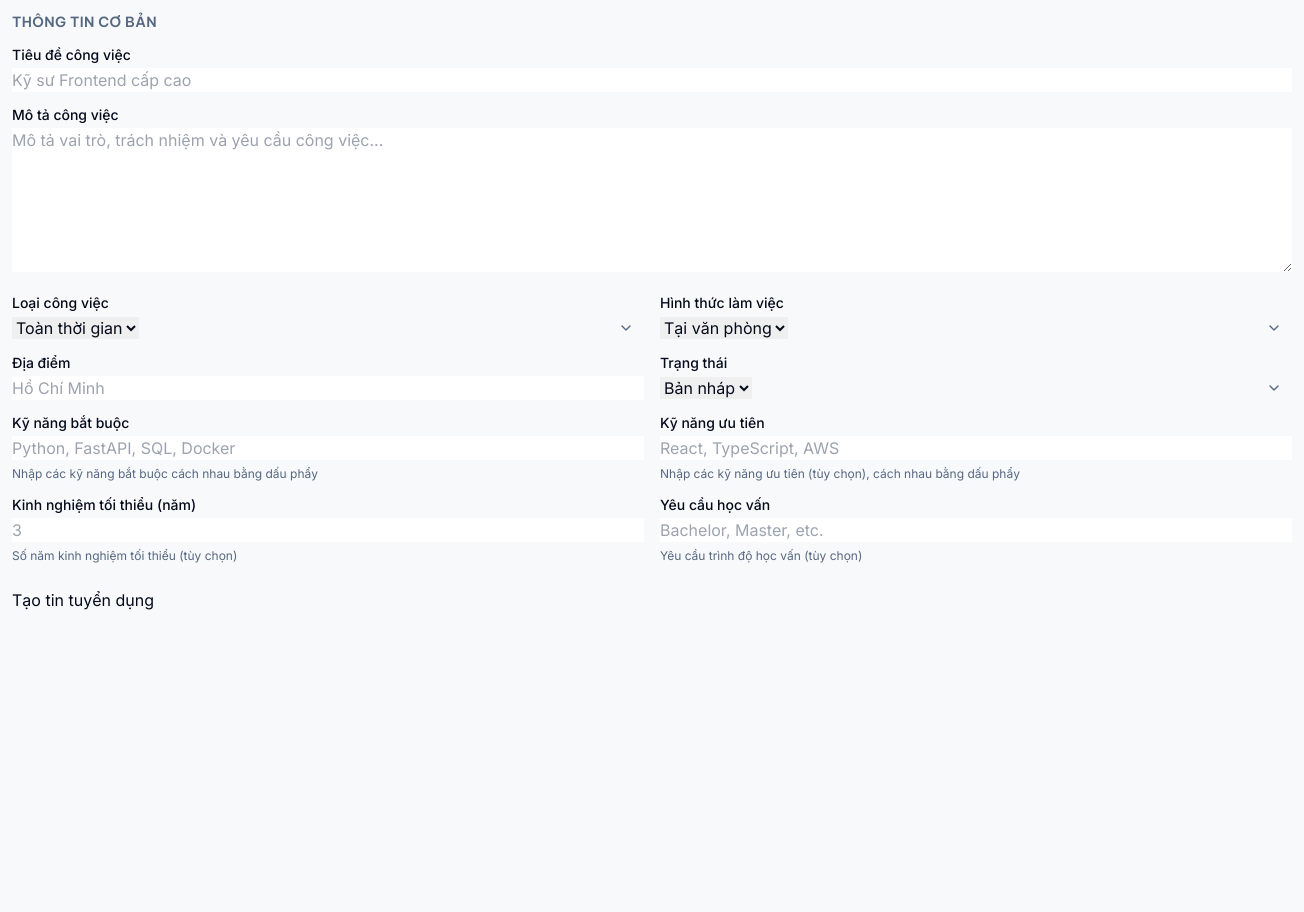
Test: JobForm › submits job with company id
Type "Senior Frontend Engineer" into the field labelled "Tiêu đề công việc".
click(652, 80); type("Senior Frontend Engineer")  # box [12,68,1292,92]
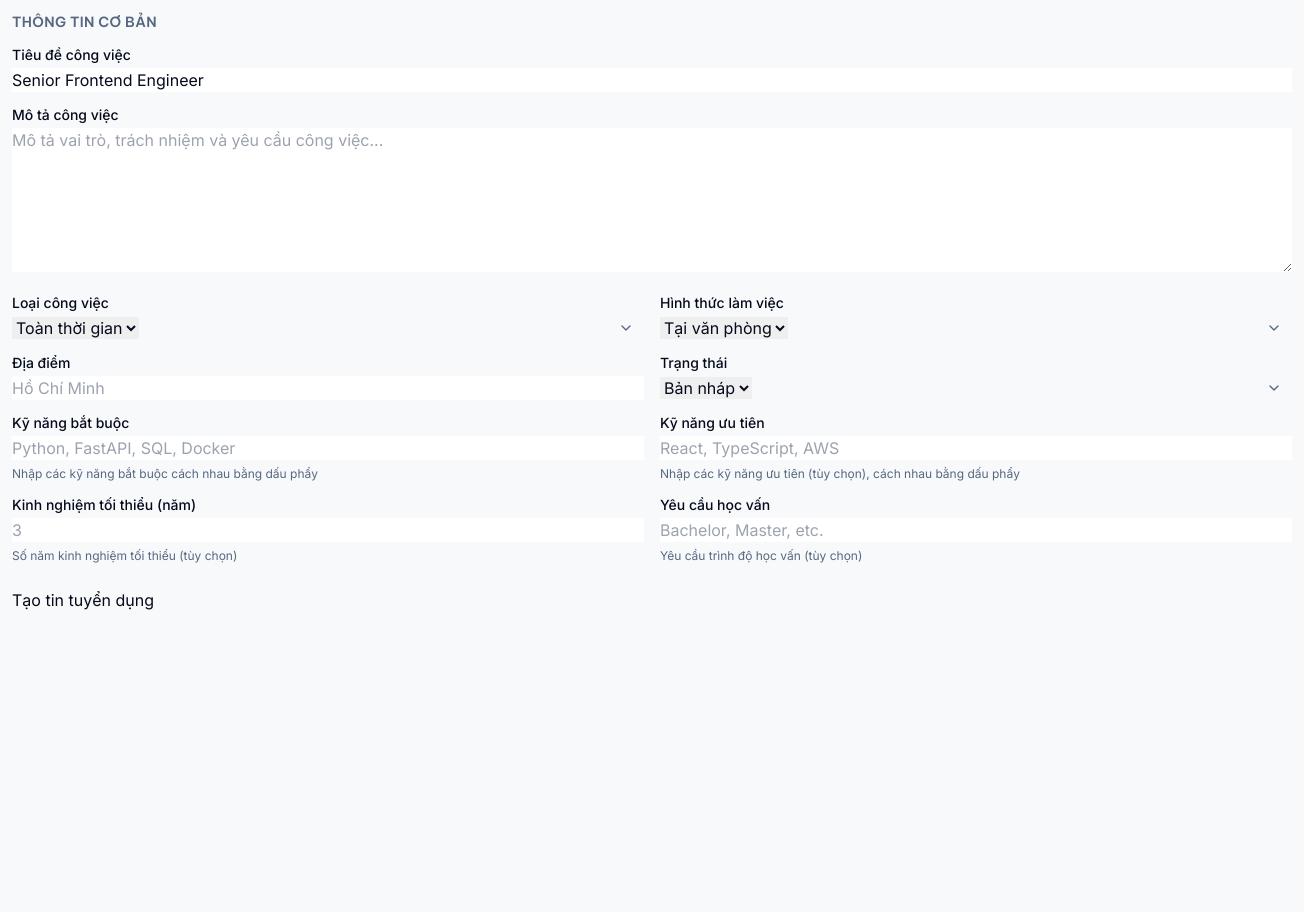
Type "Build modern web applications with React." into the text box labelled "Mô tả công việc".
click(652, 200); type("Build modern web applications with React.")  # box [12,128,1292,272]
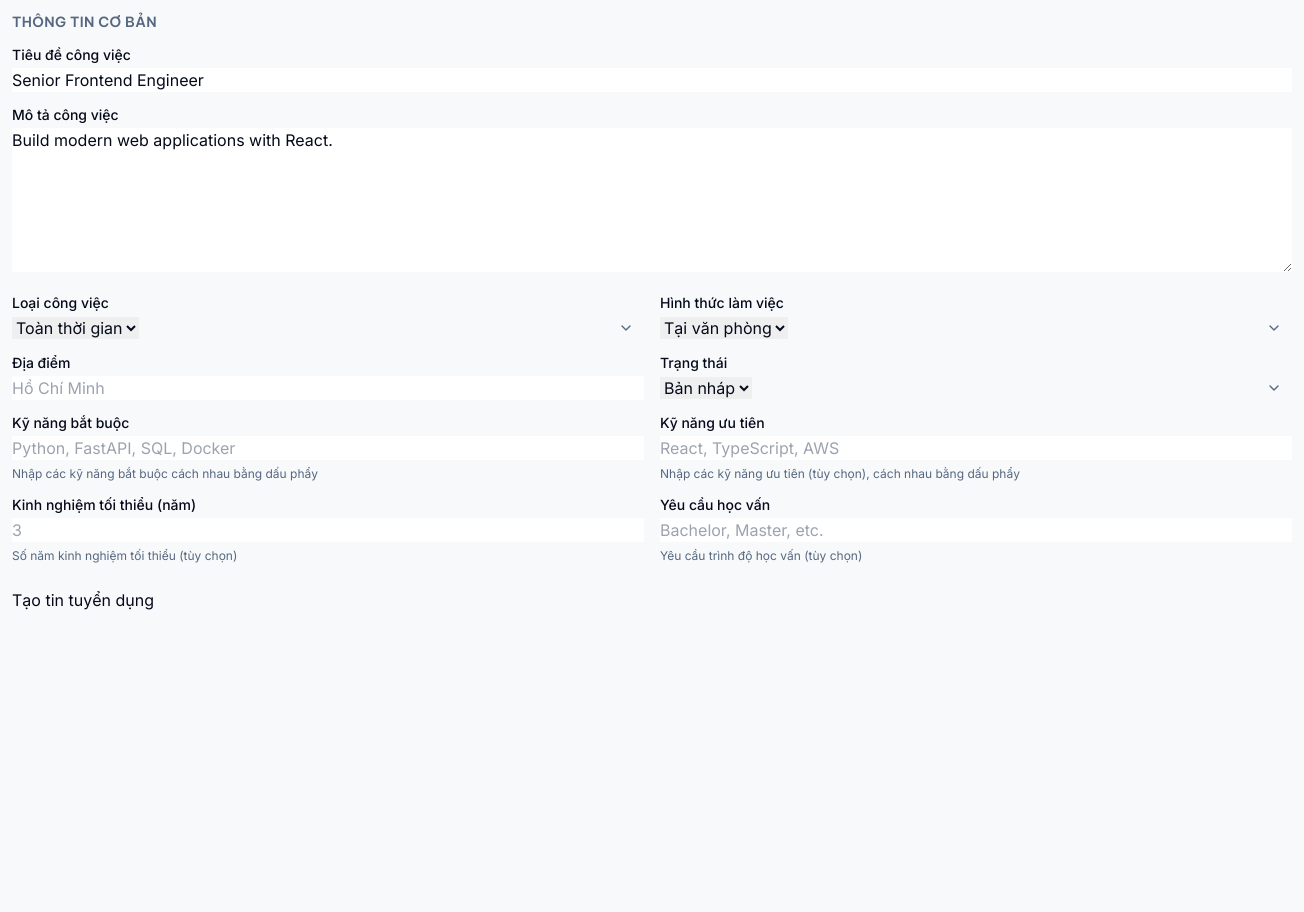
Select "Từ xa" in the dropdown labelled "Hình thức làm việc" at coordinates (724, 328), box [660,317,788,339]
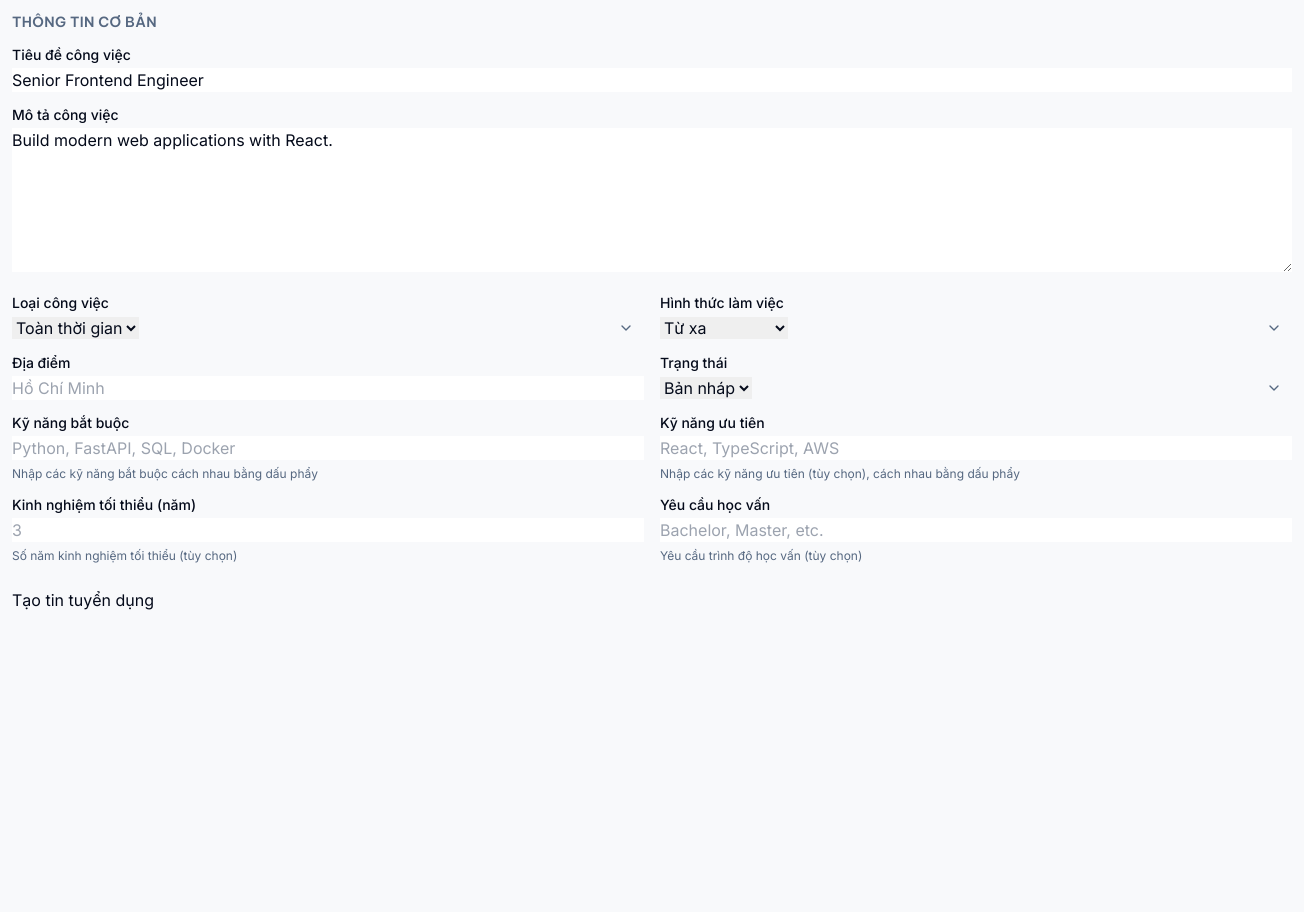
Click the button "Tạo tin tuyển dụng".
click(83, 600)  # box [12,588,154,612]
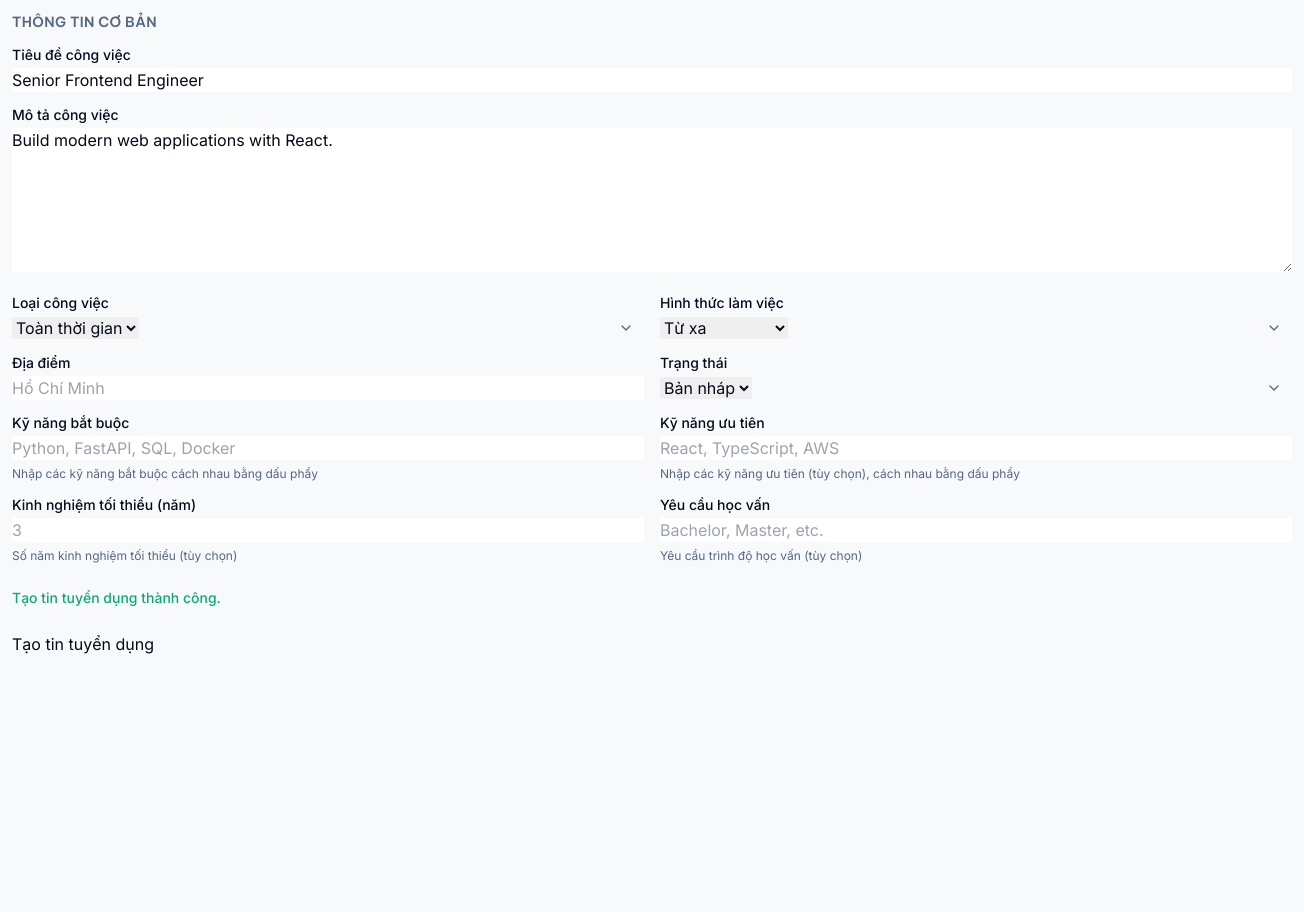
Expected: the text "Tạo tin tuyển dụng thành công." is shown, [12,589,221,606]
